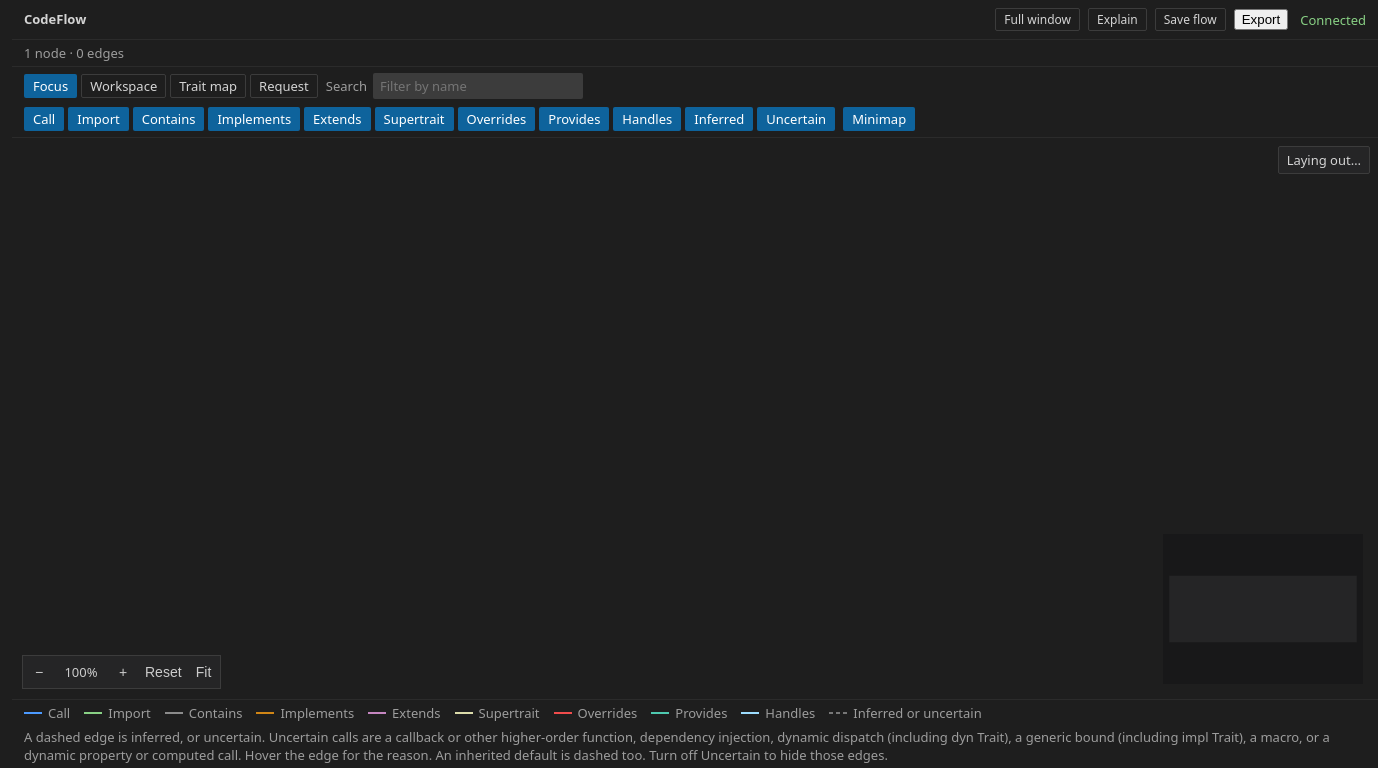
Test: full window and zoom › keeps the chosen zoom when a refreshed graph arrives
Click the button named "Zoom in" at (123, 672), box [109,658,137,686]
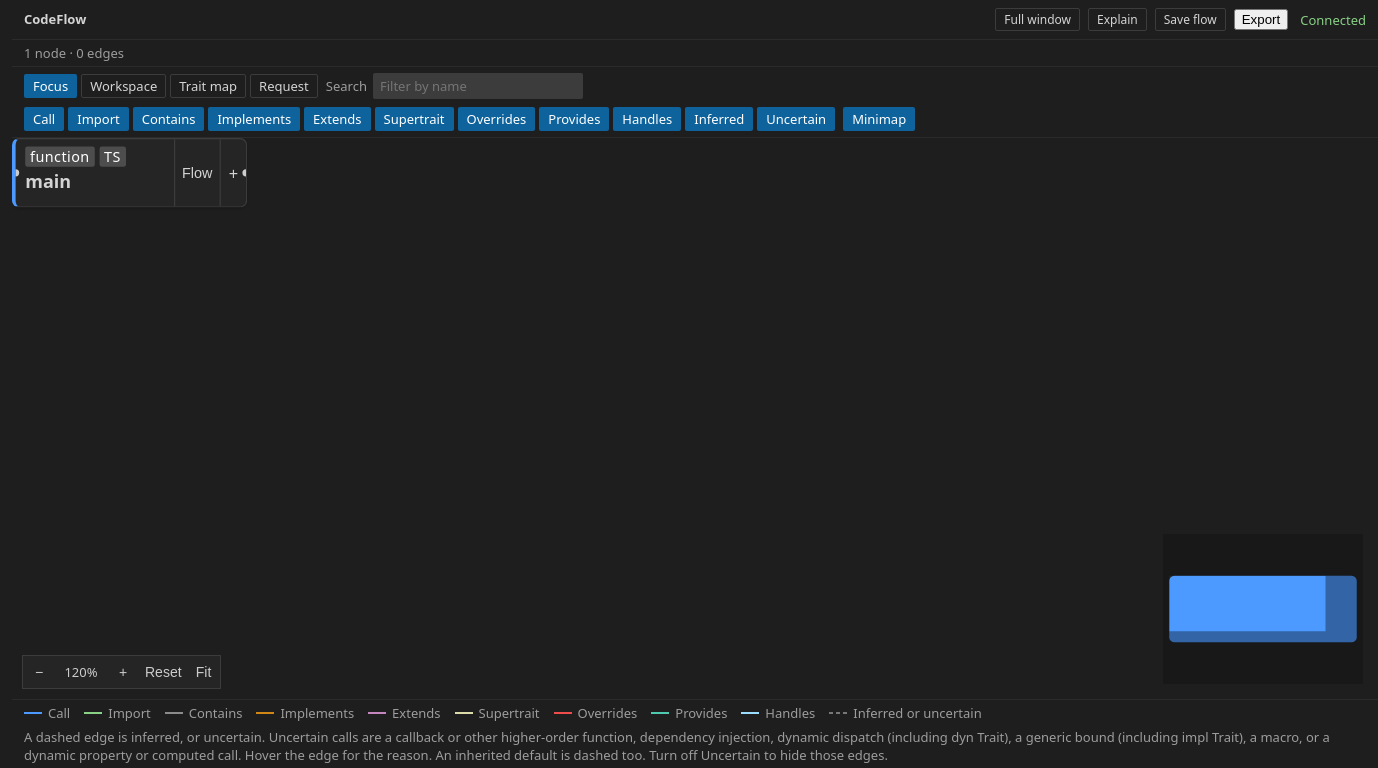
Check: the button with aria-label "function main" is shown, box [16,139,174,206]
